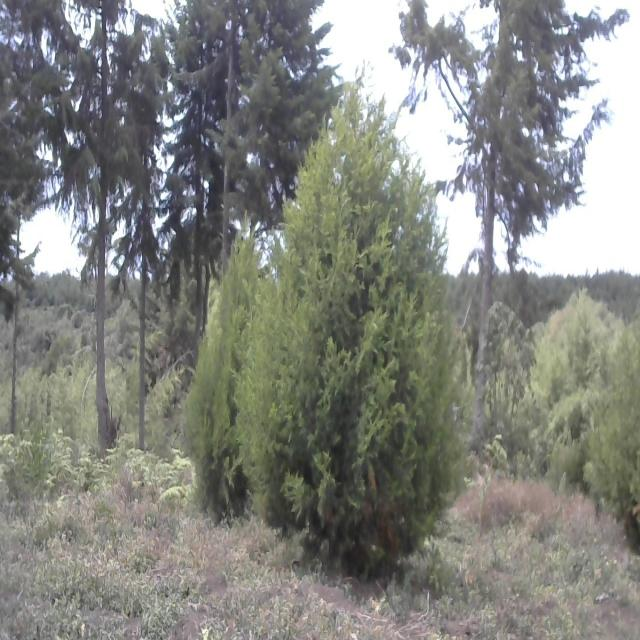Juniperus procesera: (242, 100, 468, 598), (398, 0, 625, 261), (41, 0, 157, 456), (169, 0, 334, 245), (180, 242, 271, 528), (591, 312, 640, 550)
